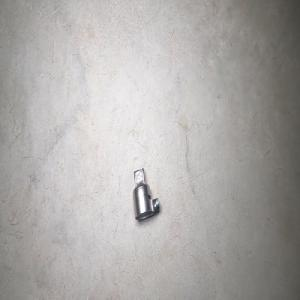MetalPart: (132, 167, 159, 220)
